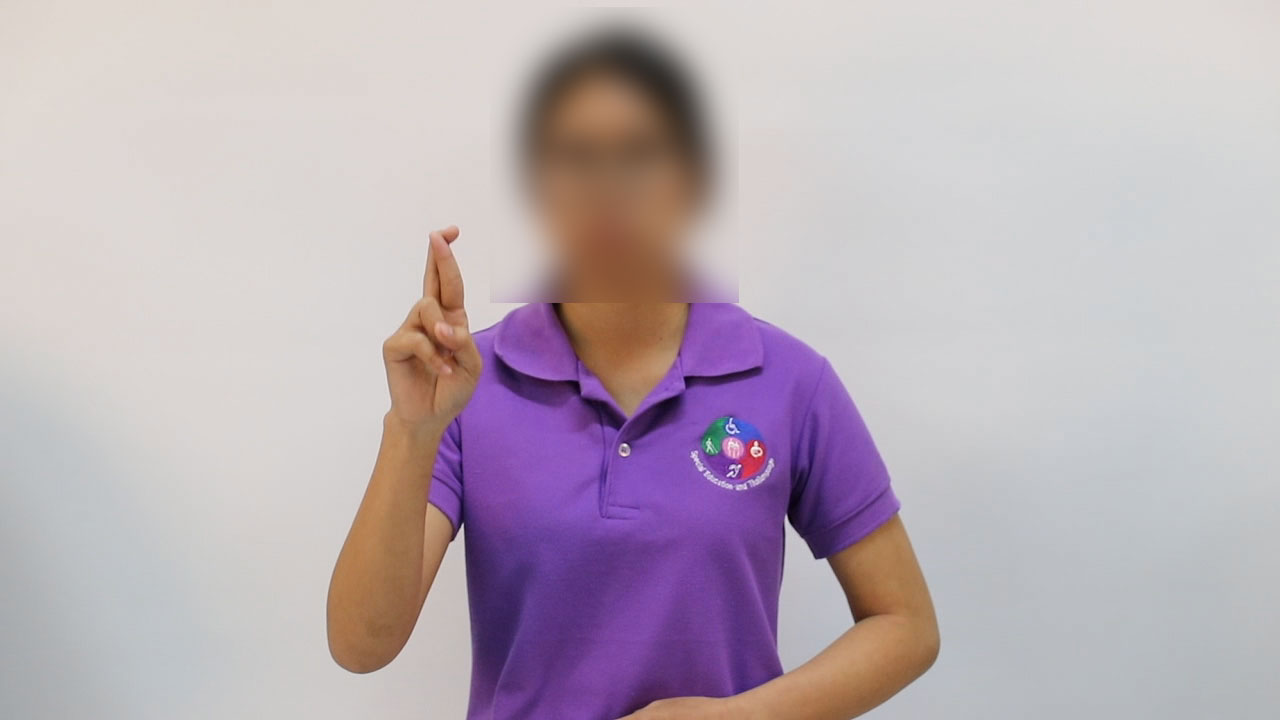rao: (362, 221, 499, 443)
